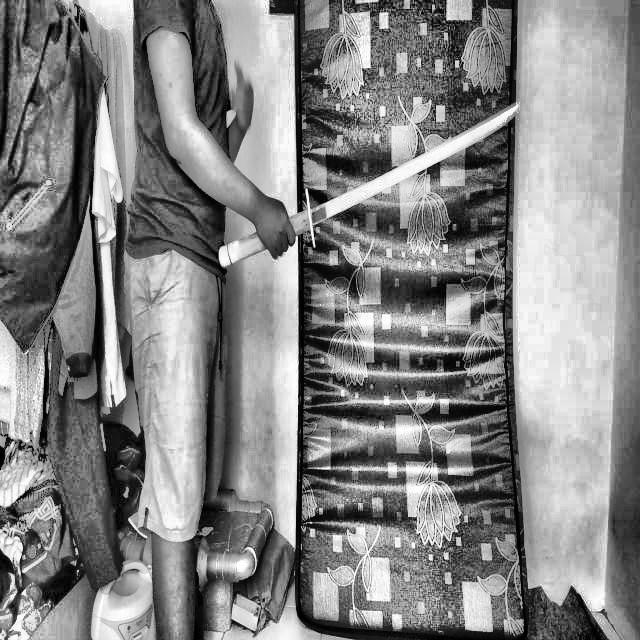pisau: (215, 94, 525, 289)
